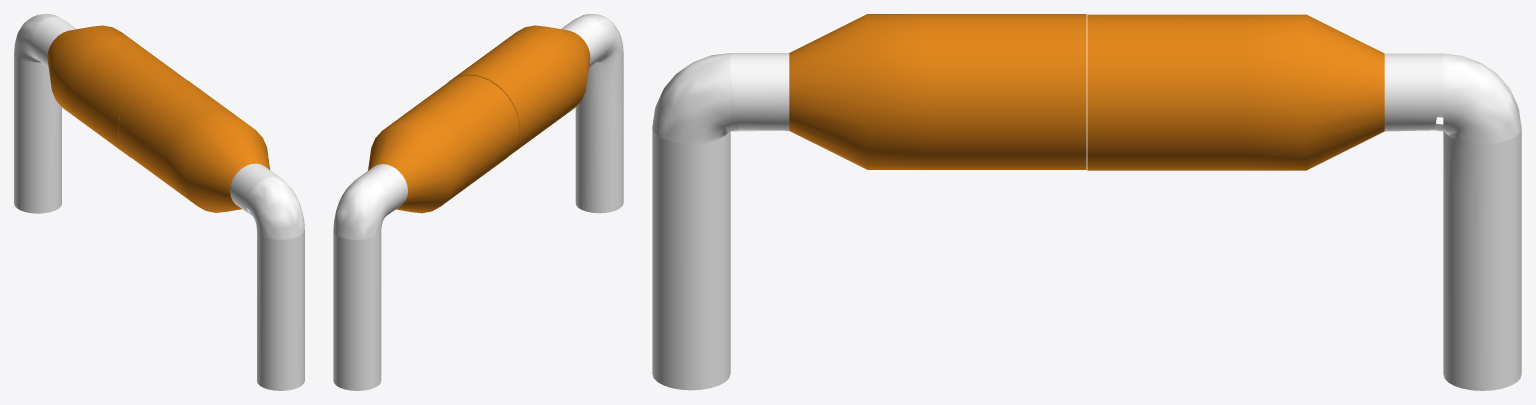
Rendered from Resistor.fbx.
3 views of the same model, side by side, from view 1: azimuth 30°, elevation 25°; view 2: azimuth 150°, elevation 25°; view 3: azimuth 270°, elevation 25° (orthographic). The views are drawn at different scales.
Visible parts, largest first — view 1: 3d-model, 3d-model.001; view 2: 3d-model, 3d-model.001; view 3: 3d-model, 3d-model.001.
Part boxes in pixels (<box>): 3d-model: <box>47,25,269,212</box>; 3d-model.001: <box>14,14,304,390</box>; 3d-model: <box>368,25,590,213</box>; 3d-model.001: <box>333,14,623,390</box>; 3d-model: <box>789,14,1384,170</box>; 3d-model.001: <box>652,53,1521,390</box>.
Bounding box in the file's own units: 200 × 498 × 1111.
